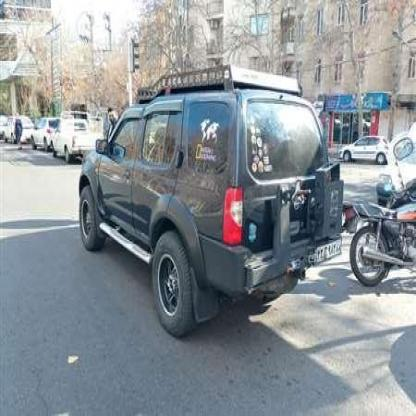Car: (76, 86, 335, 334), (52, 115, 98, 164), (341, 138, 389, 162), (27, 112, 55, 146)
